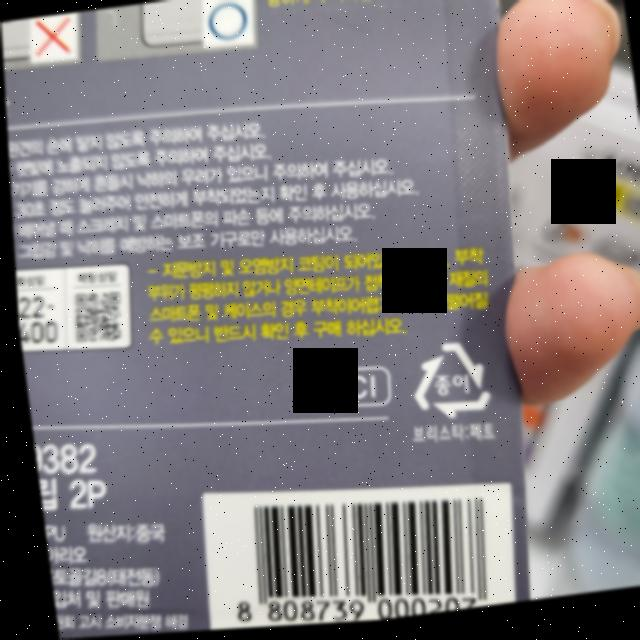Paper: (398, 338, 493, 430)
